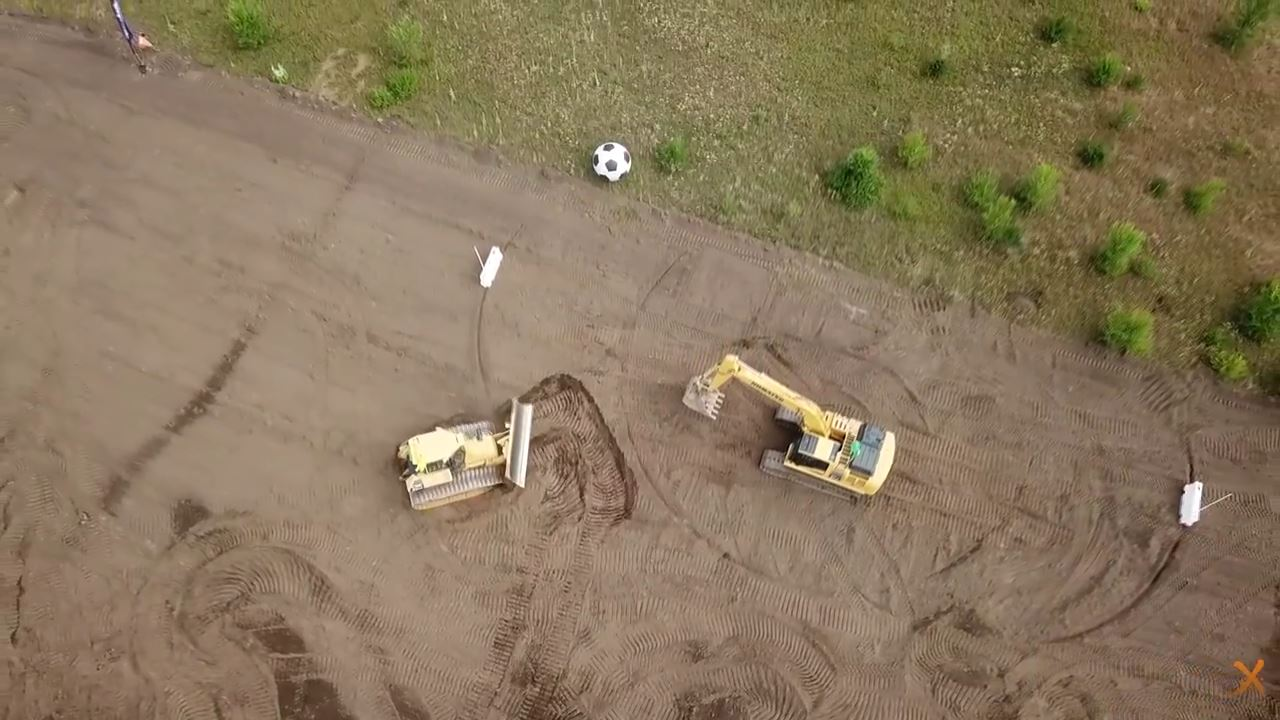con_eq: (682, 355, 898, 512), (390, 396, 531, 512)
